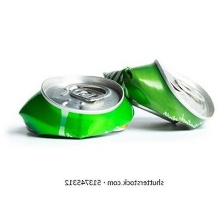can: (99, 55, 217, 132), (16, 73, 137, 144)
